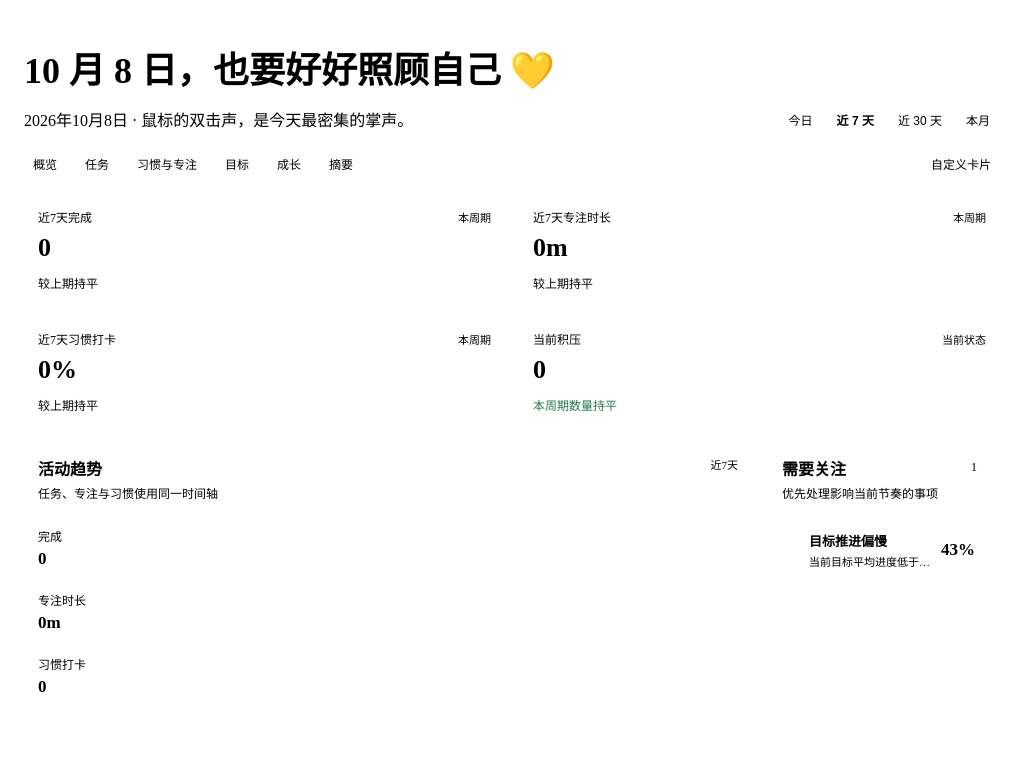
Test: PersonalStatsView › goal workbench prioritizes deadlines, partitions all goals once, and never flags completed goals as overdue
Step 1. Click the tab "目标" → (237, 164), box left=214, top=148, right=260, bottom=180
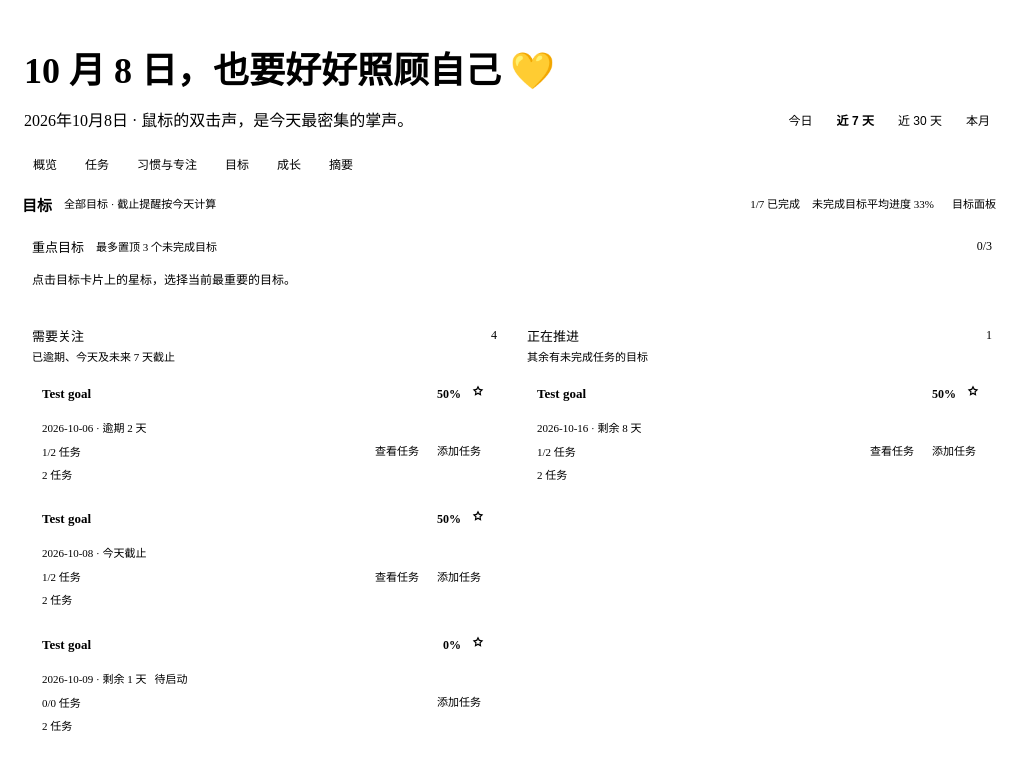
Result: the number of elements with class "goal-workbench-item" is 7
Result: the element showing "Test goal 50% 2026-10-06 · 逾期 2 天 1/2 任务 查看任务 添加任务 2 任务" is shown at left=32, top=374, right=497, bottom=491
Result: the element showing "Test goal 50% 2026-10-08 · 今天截止 1/2 任务 查看任务 添加任务 2 任务" is shown at left=32, top=499, right=497, bottom=617
